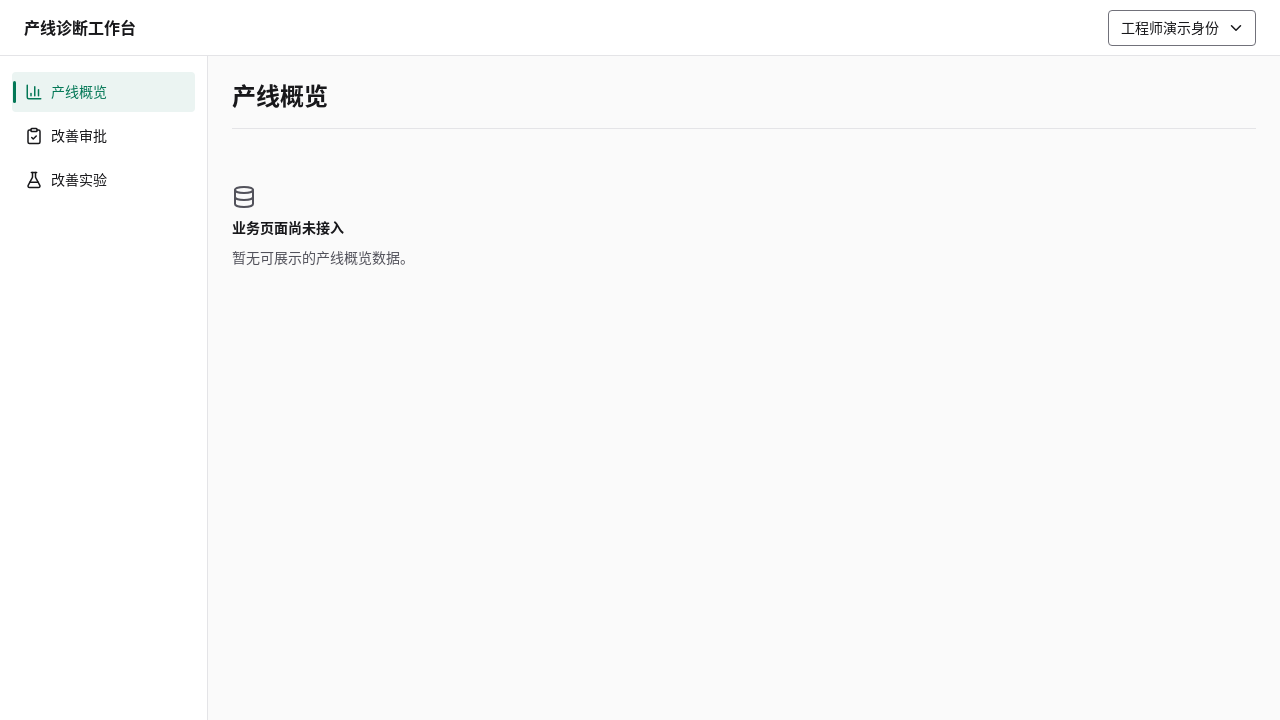
WorkbenchApp app-shell › dismisses the identity menu when the user clicks outside it
The image size is (1280, 720).
Step 1. Click the button "工程师演示身份" → point(1182, 28), box [1108,10,1256,46]
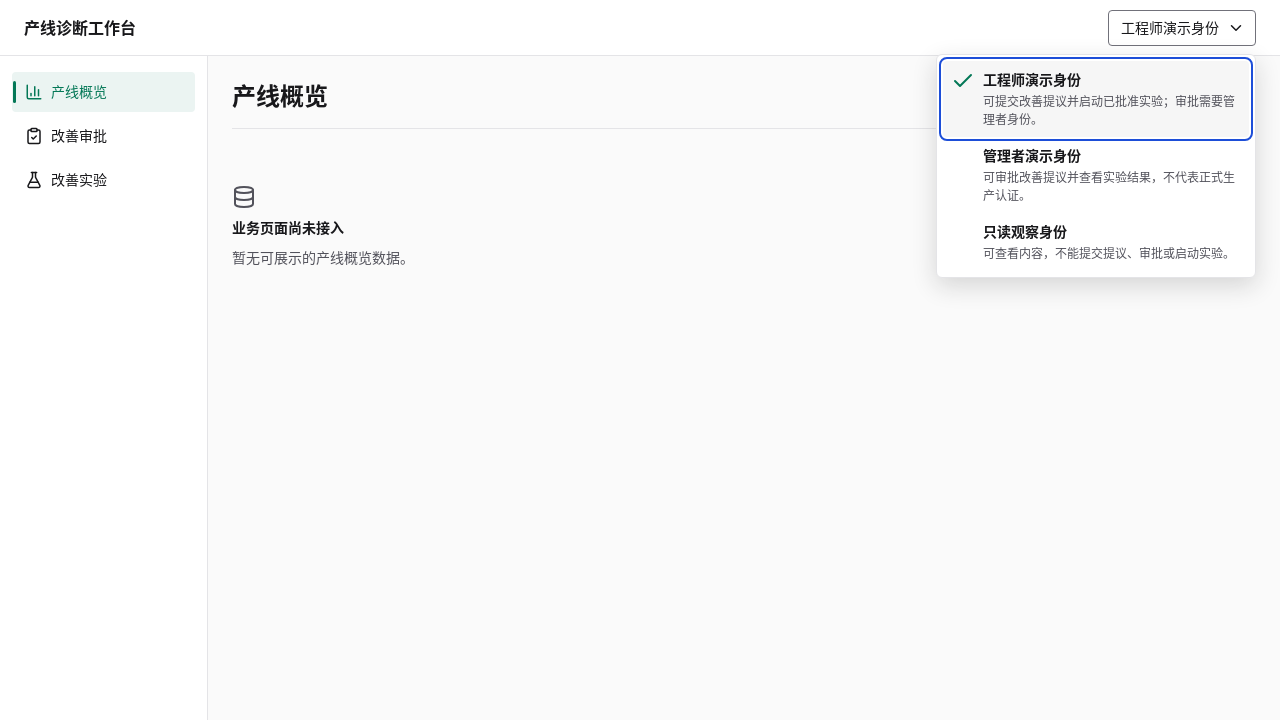
Now the menu named "切换演示身份" is shown, box [936,54,1256,278]
Step 2. Click the heading "产线概览" → point(280, 96), box [232,80,328,112]
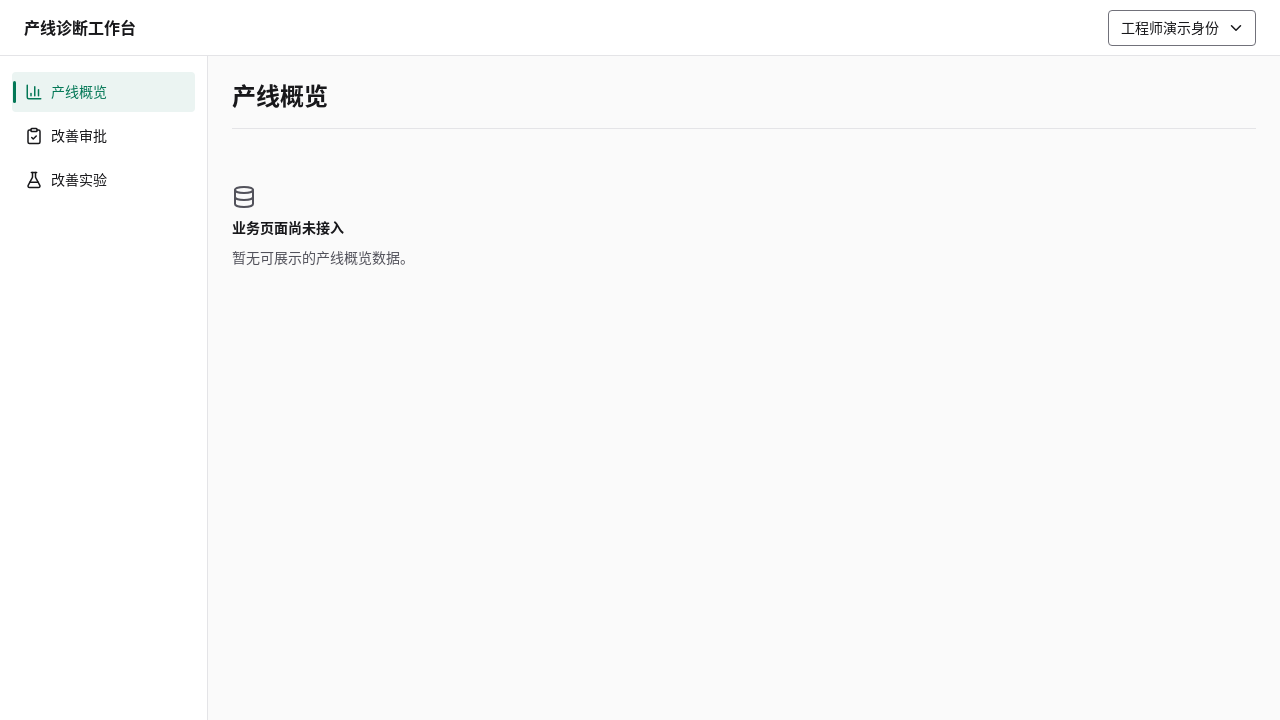
Now the menu is gone
